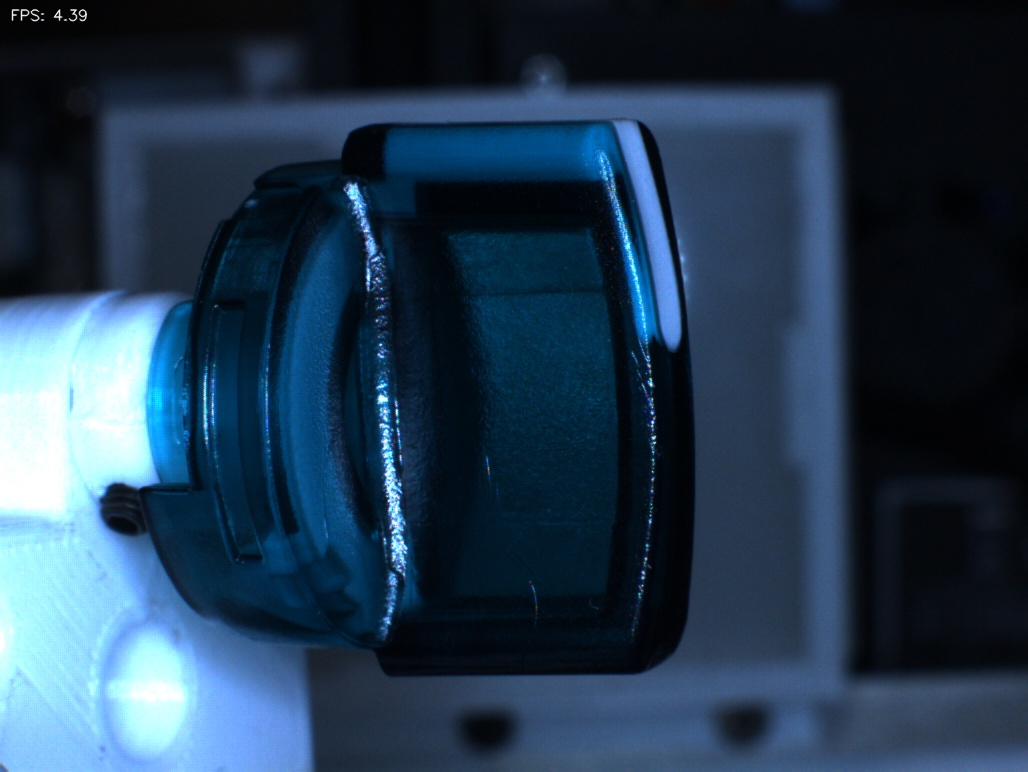Givrage: (475, 444, 563, 639), (614, 333, 663, 439)
